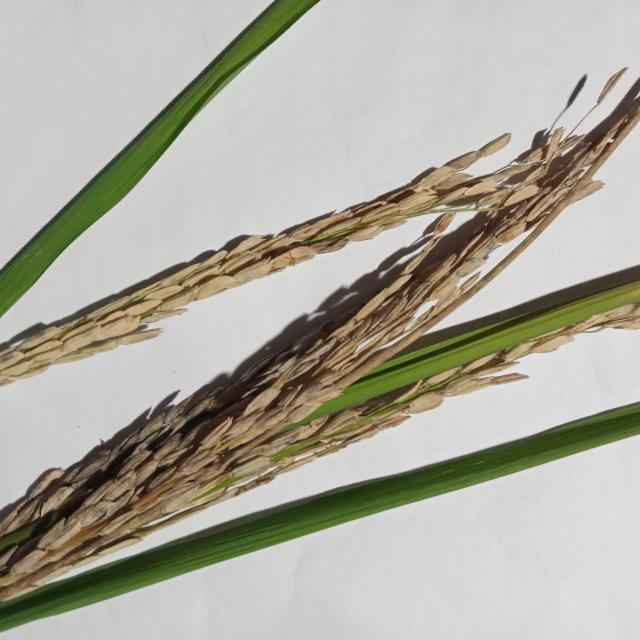Neck_Blast: (0, 77, 640, 595), (0, 134, 542, 380)
